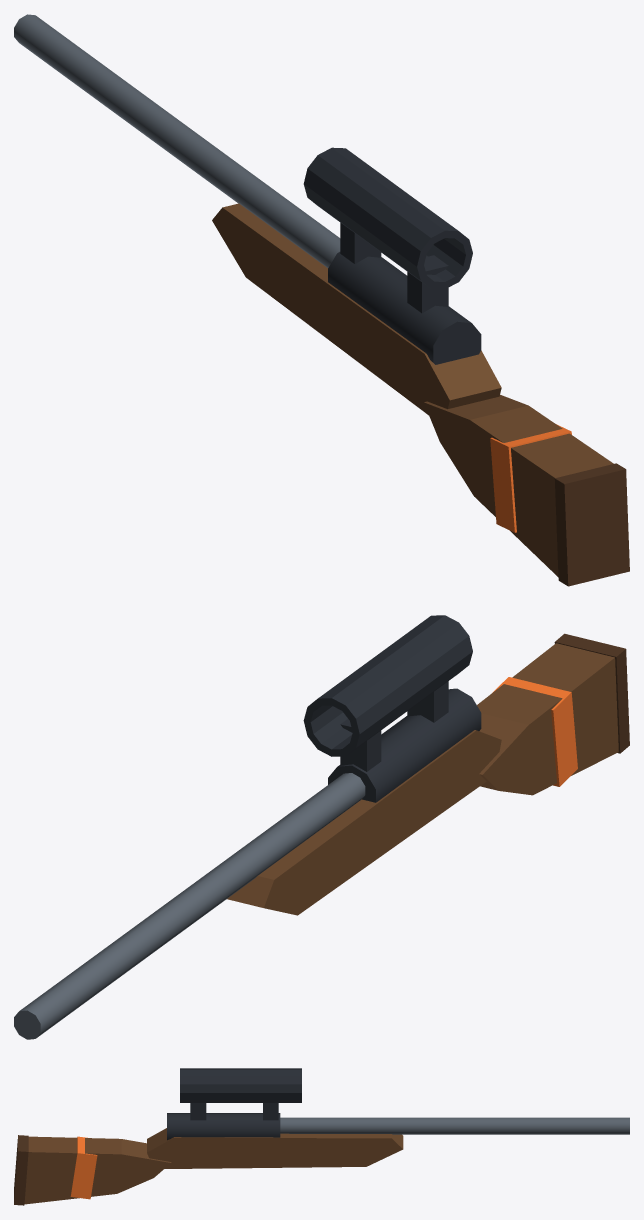
The model's file is hunting_rifle.glb.
3 renders of one model, top to bottom at view 1: azimuth 30°, elevation 25°; view 2: azimuth 150°, elevation 25°; view 3: azimuth 270°, elevation 25°, orthographic. The views are drawn at different scales.
Visible parts, largest first — view 1: Merged; view 2: Merged; view 3: Merged.
Boxes of the visible parts, <box> form: Merged: <box>14,14,629,586</box>; Merged: <box>14,615,629,1039</box>; Merged: <box>14,1068,629,1205</box>.
Bounding box in the file's own units: 0.0743 × 0.2662 × 1.17.
